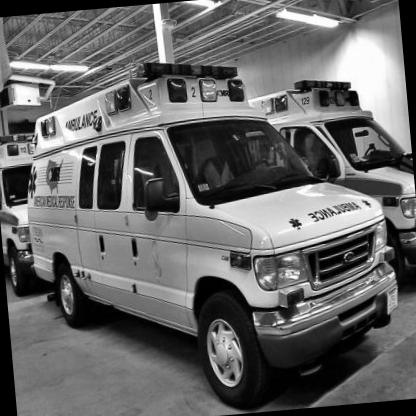ambulance: (17, 62, 411, 416)
